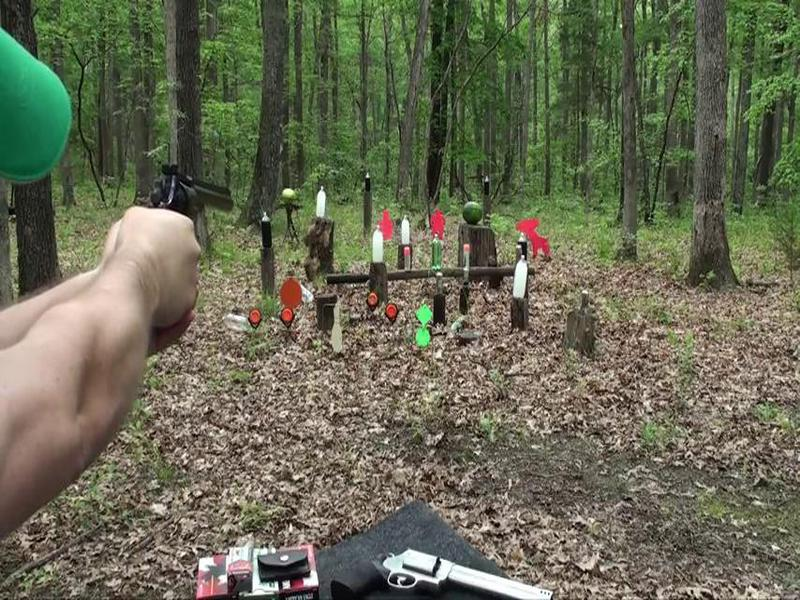Revolver: (122, 152, 273, 254)
